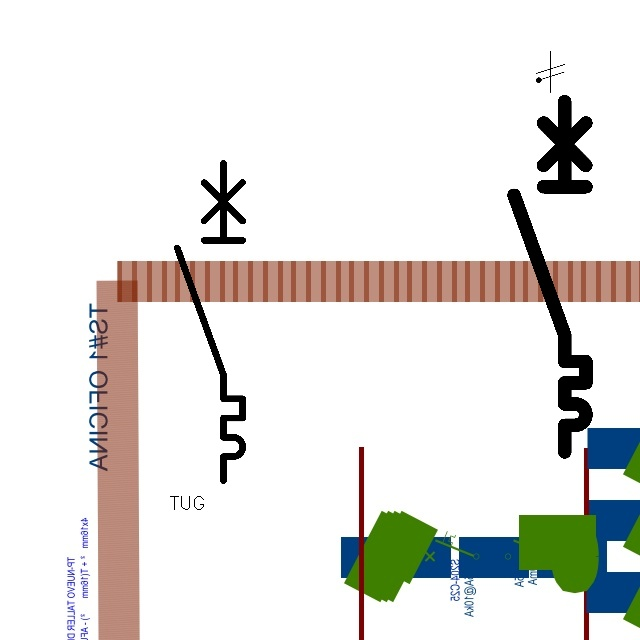interruptor_termomagnetico: (505, 92, 595, 460), (169, 155, 251, 489)
